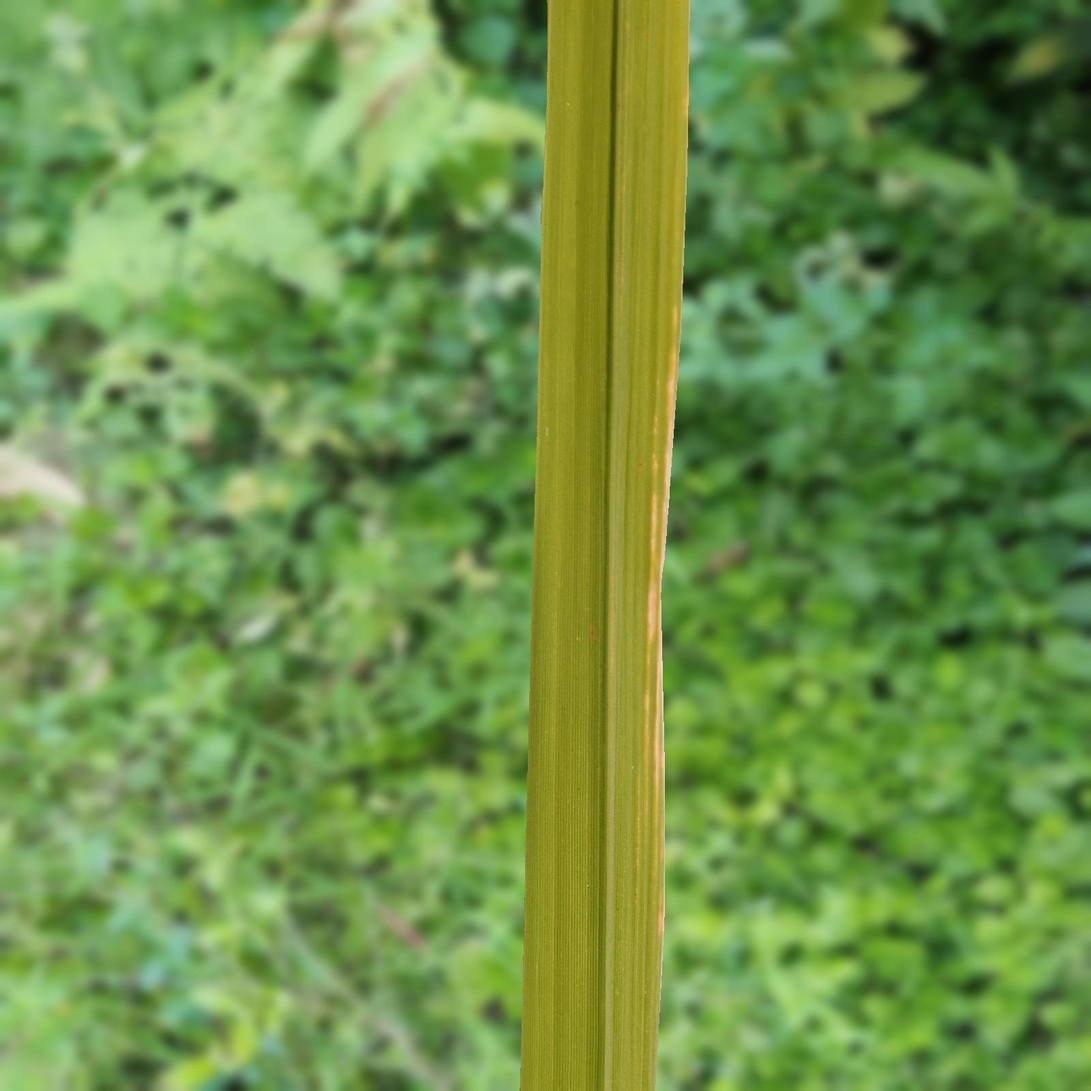BLS: (644, 304, 678, 877), (660, 812, 664, 863)
LEAF: (520, 0, 690, 1090)
